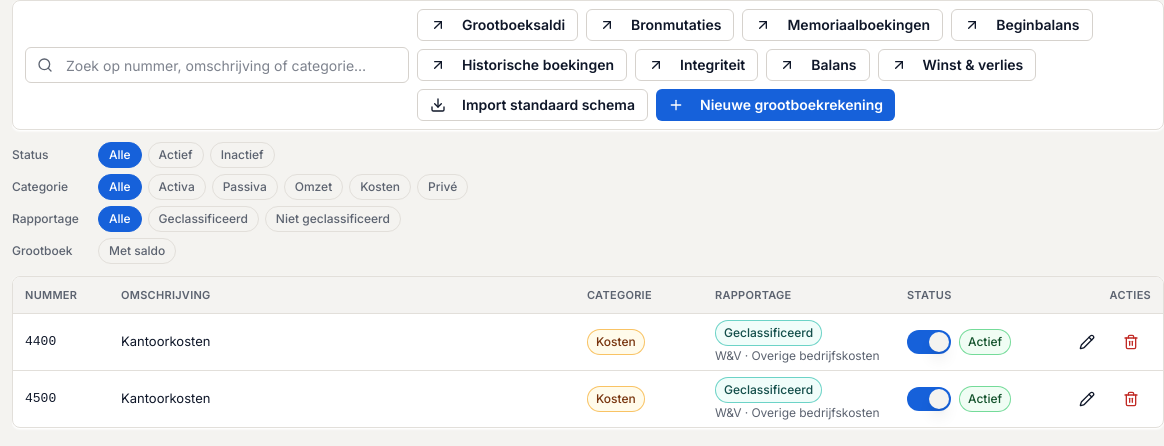
Test: Met saldo › 9. netwerkfout: volledige lijst blijft staan, mét expliciete melding
Click the button "Met saldo". click: (137,251)
box: [98,238,176,264]
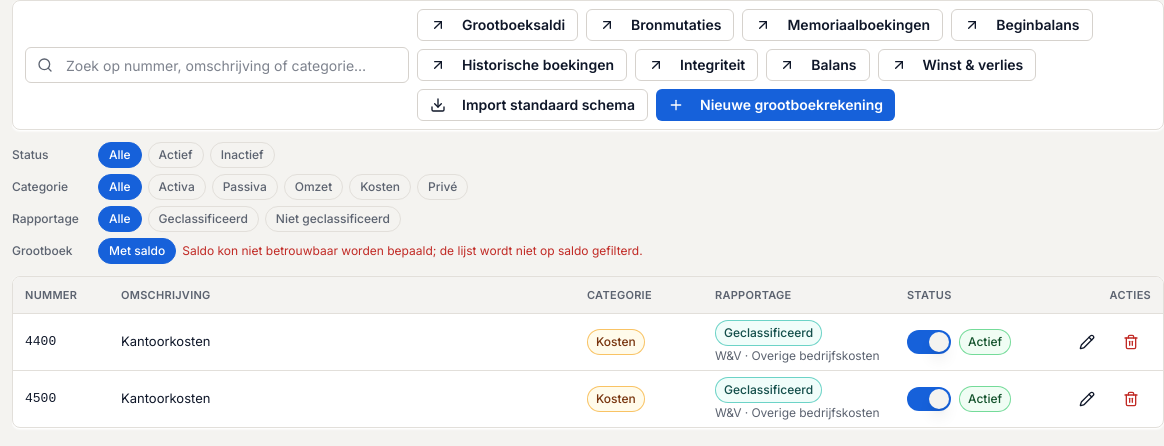
Result: the message with test id "saldo-fout" shows "Saldo kon niet betrouwbaar worden bepaald; de lijst wordt niet op saldo gefilterd." at [182,243,643,258]
